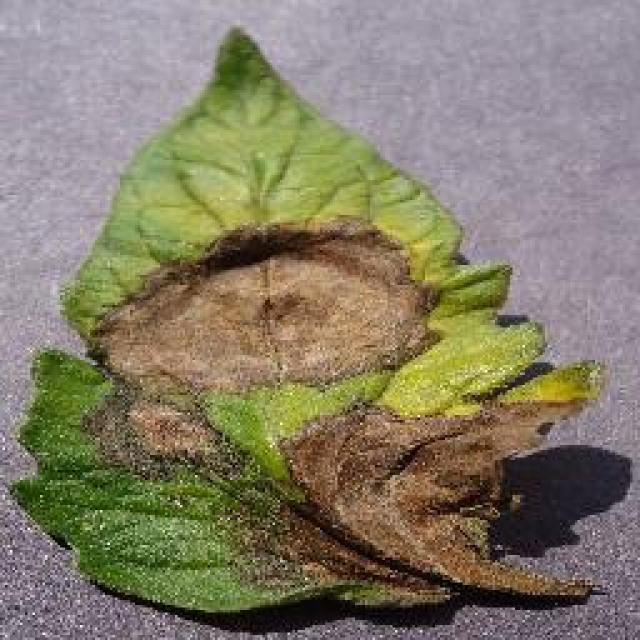Tomato Late Blight: (95, 232, 553, 615)
